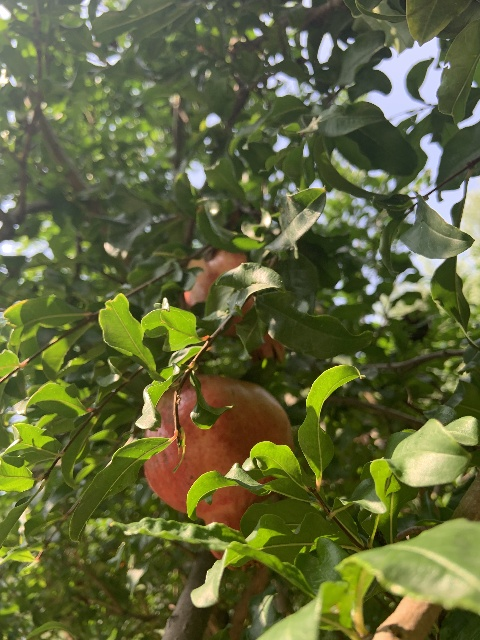early-fruit: (183, 249, 285, 366)
ripe: (145, 373, 295, 571)
